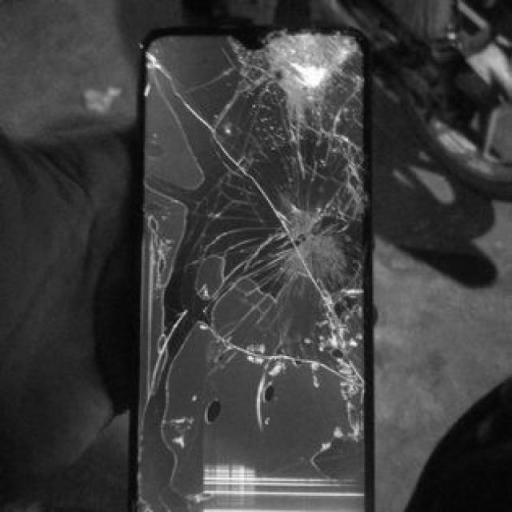phone: (123, 21, 375, 511)
